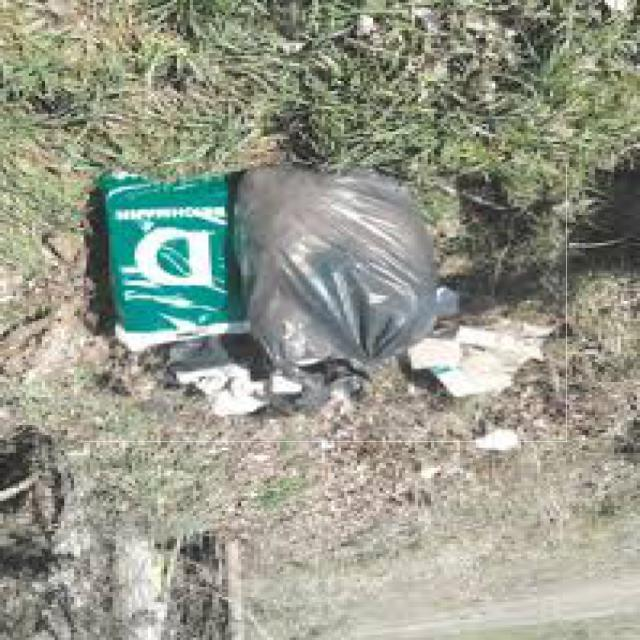Trashbag: (225, 149, 440, 407)
